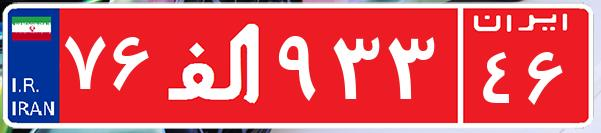3: (385, 28, 445, 110), (330, 28, 385, 110)
4: (475, 38, 525, 113)
6: (110, 28, 158, 105), (525, 38, 570, 115)
7: (57, 26, 110, 107)
9: (273, 28, 330, 110)
الف: (158, 15, 273, 115)
